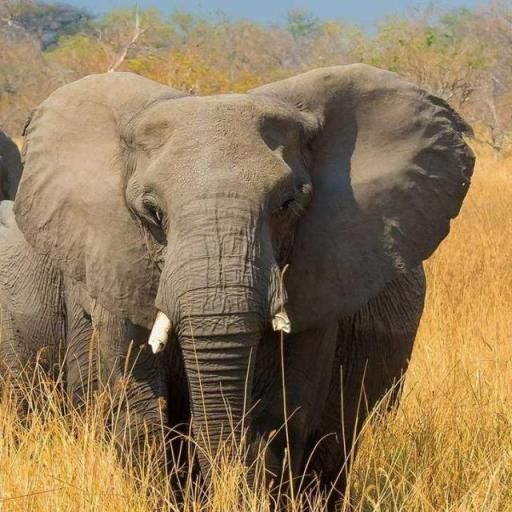Elephant: (1, 62, 477, 511)
